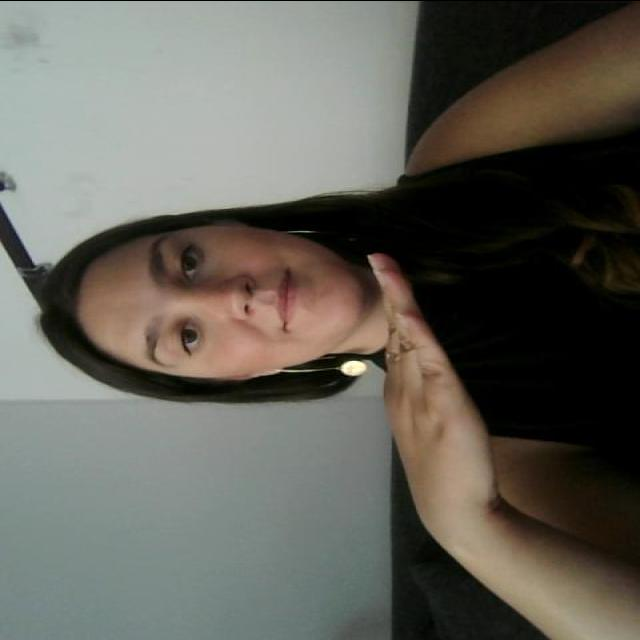Paper: (354, 250, 499, 499)
